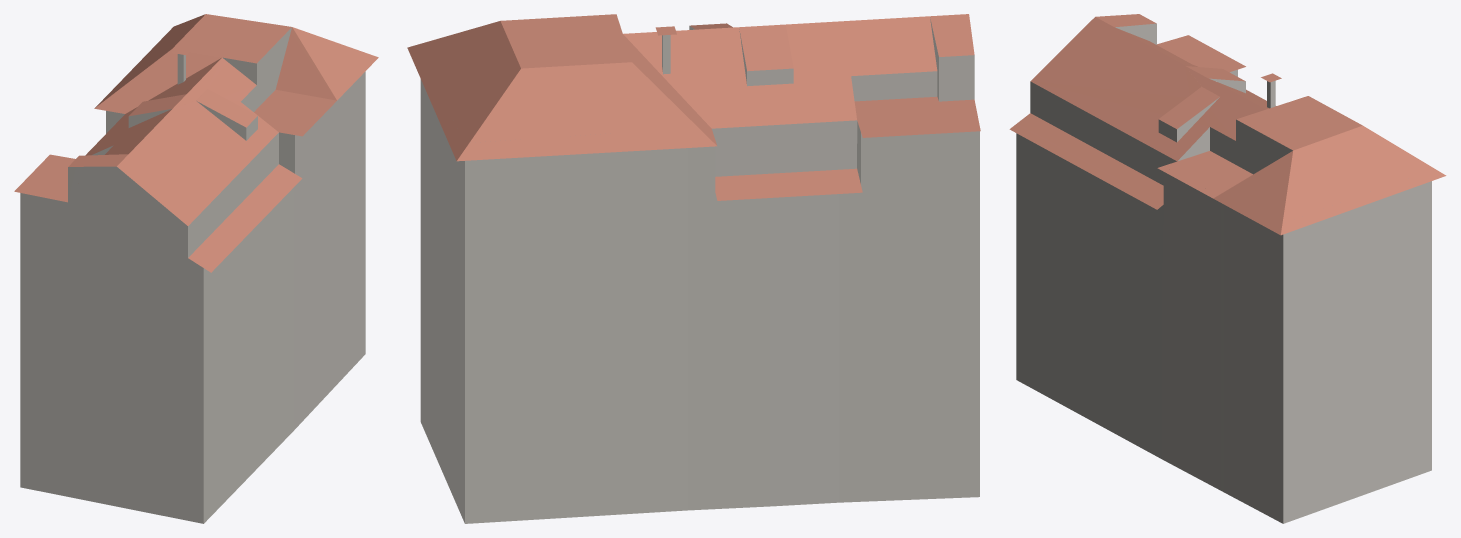
3 renders of one model, left to right at view 1: azimuth 30°, elevation 25°; view 2: azimuth 150°, elevation 25°; view 3: azimuth 270°, elevation 25°, orthographic. The views are drawn at different scales.
Visible parts, largest first — view 1: swisstopo:swissbuildings3d:000f609c-4003-495f-9426-b43e3d770; view 2: swisstopo:swissbuildings3d:000f609c-4003-495f-9426-b43e3d770; view 3: swisstopo:swissbuildings3d:000f609c-4003-495f-9426-b43e3d770.
Boxes of the visible parts, x1,y1,x2,y2 form: swisstopo:swissbuildings3d:000f609c-4003-495f-9426-b43e3d770: (14, 14, 378, 523); swisstopo:swissbuildings3d:000f609c-4003-495f-9426-b43e3d770: (407, 14, 980, 523); swisstopo:swissbuildings3d:000f609c-4003-495f-9426-b43e3d770: (1009, 14, 1446, 523).
Size of the model in its own units: 25.72 by 21.15 by 23.7.
